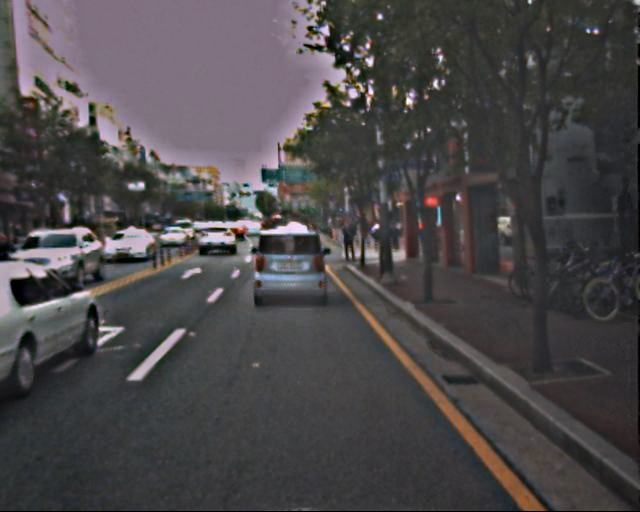person: (338, 214, 359, 266)
